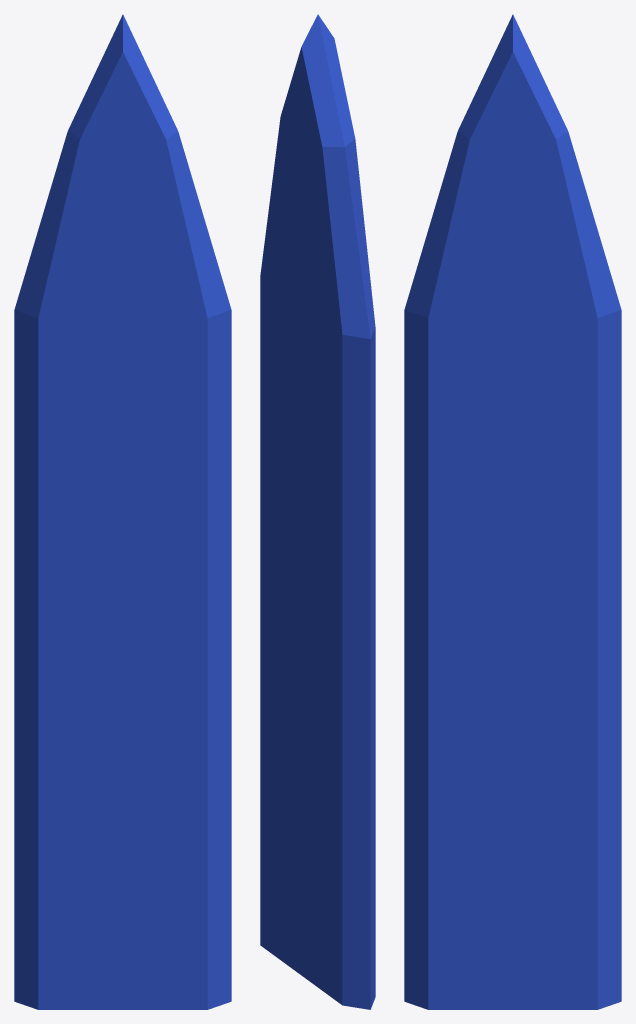
The model's file is blade.fbx.
3 views of the same model, side by side, from view 1: azimuth 90°, elevation 25°; view 2: azimuth 210°, elevation 25°; view 3: azimuth 270°, elevation 25° (orthographic). The views are drawn at different scales.
Parts seen in each view (by area): view 1: Cube; view 2: Cube; view 3: Cube.
Part boxes in pixels (x1,y1,x2,y2): Cube: (14,14,231,1009); Cube: (260,14,375,1009); Cube: (404,14,621,1009).
Size of the model in its own units: 46.54 by 1289 by 257.
